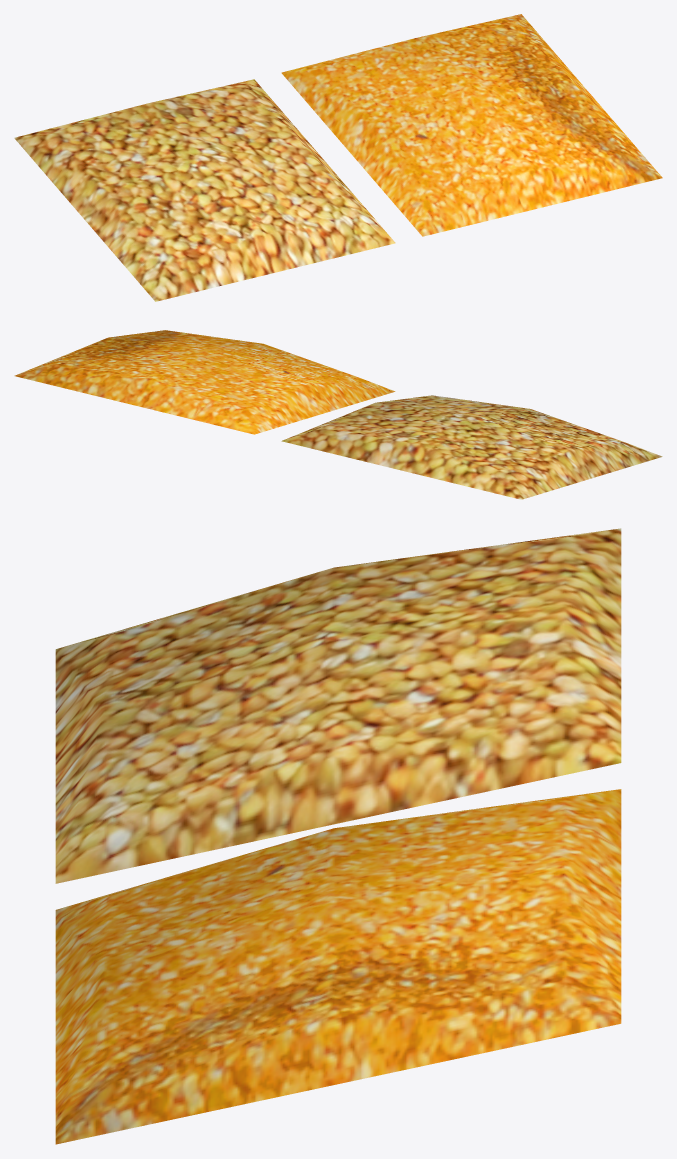
The model's file is grains-03.fbx.
3 views of the same model, one above another, from view 1: azimuth 30°, elevation 25°; view 2: azimuth 150°, elevation 25°; view 3: azimuth 270°, elevation 25° (orthographic). The views are drawn at different scales.
Parts seen in each view (by area): view 1: Cube.009_Cube.003_Cube.009_Cube.003; view 2: Cube.009_Cube.003_Cube.009_Cube.003; view 3: Cube.009_Cube.003_Cube.009_Cube.003.
Boxes of the visible parts, x1,y1,x2,y2 form: Cube.009_Cube.003_Cube.009_Cube.003: (14,14,662,301); Cube.009_Cube.003_Cube.009_Cube.003: (14,330,662,499); Cube.009_Cube.003_Cube.009_Cube.003: (55,528,621,1144).
Size of the model in its own units: 1.51 by 0.2166 by 0.729.
